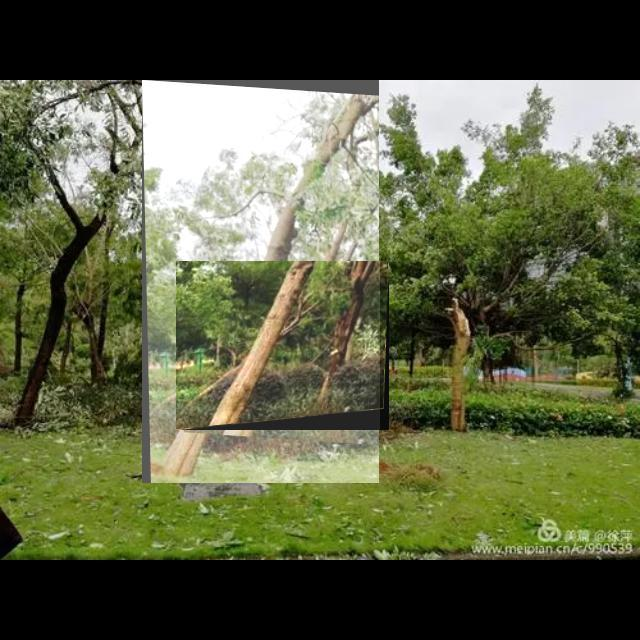fallen_tree: (142, 80, 380, 484), (176, 261, 390, 431)
